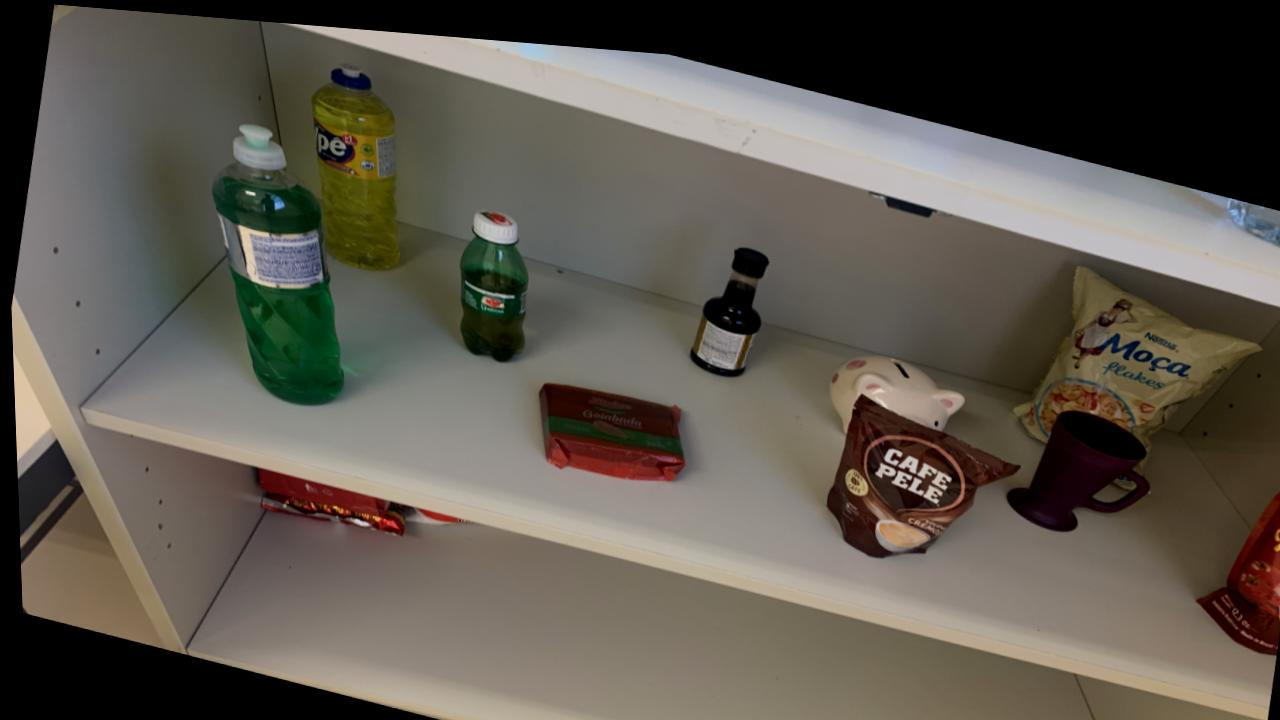Coffee-Pantry_Items: (823, 381, 1015, 542), (254, 463, 383, 510)
Detergent-Cleanup_Items: (210, 119, 339, 397), (310, 58, 397, 263)
English_Sauce-Pantry_Items: (687, 234, 766, 364)
Flakes-Snacks: (1010, 248, 1259, 429)
Guarana-Drinks: (457, 202, 527, 354)
Guava-Snacks: (535, 373, 682, 469)
Pig_Safe-Miscellaneous: (825, 340, 961, 416)
Tomato_Sauce-Pantry_Items: (1193, 467, 1280, 633)
Water_Bottle-Drinks: (1225, 177, 1280, 224)
